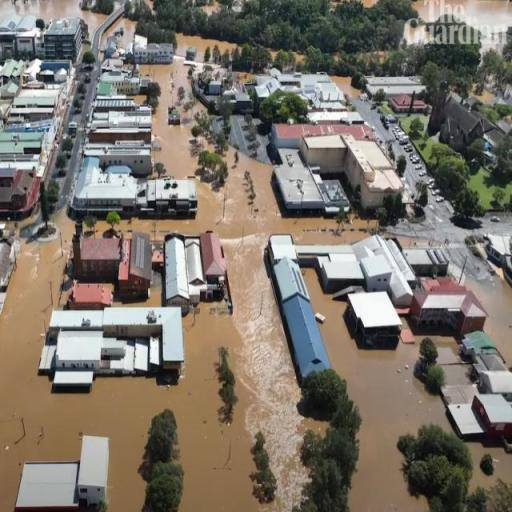flood: (0, 154, 369, 512), (305, 269, 450, 512), (141, 34, 234, 176), (414, 0, 512, 48), (467, 278, 512, 368), (0, 0, 106, 34), (470, 444, 512, 489), (102, 17, 137, 48), (332, 76, 362, 98), (361, 0, 379, 7)
house: (46, 306, 185, 391), (268, 246, 336, 386), (318, 234, 396, 292), (344, 289, 403, 354), (411, 272, 468, 338), (74, 154, 136, 213), (348, 139, 400, 209), (12, 457, 78, 512), (459, 326, 512, 392), (272, 154, 326, 216), (118, 226, 156, 302), (270, 121, 375, 147), (78, 431, 112, 509), (0, 166, 42, 228), (144, 174, 198, 218), (84, 141, 152, 174), (164, 232, 189, 310), (441, 96, 483, 142), (472, 390, 512, 437), (44, 16, 82, 62), (403, 244, 450, 274), (69, 278, 115, 308), (199, 229, 227, 278), (131, 38, 176, 64), (101, 74, 140, 96), (388, 92, 426, 114), (12, 94, 57, 108), (93, 98, 136, 110)
